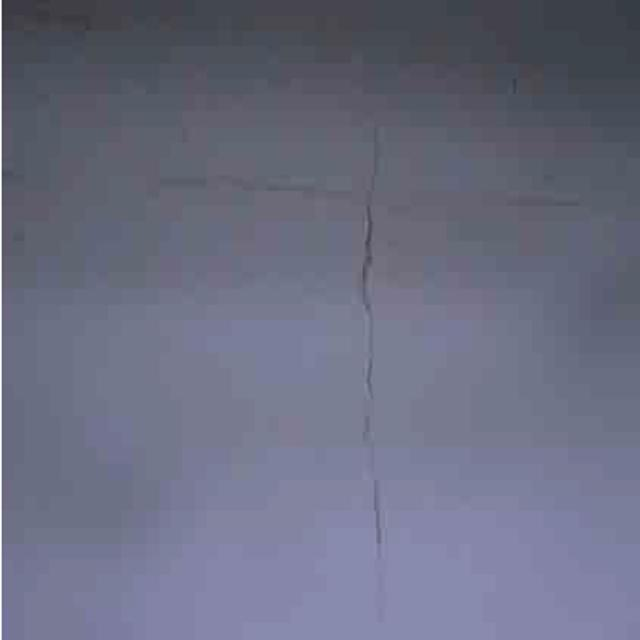crack: (342, 121, 422, 574)
